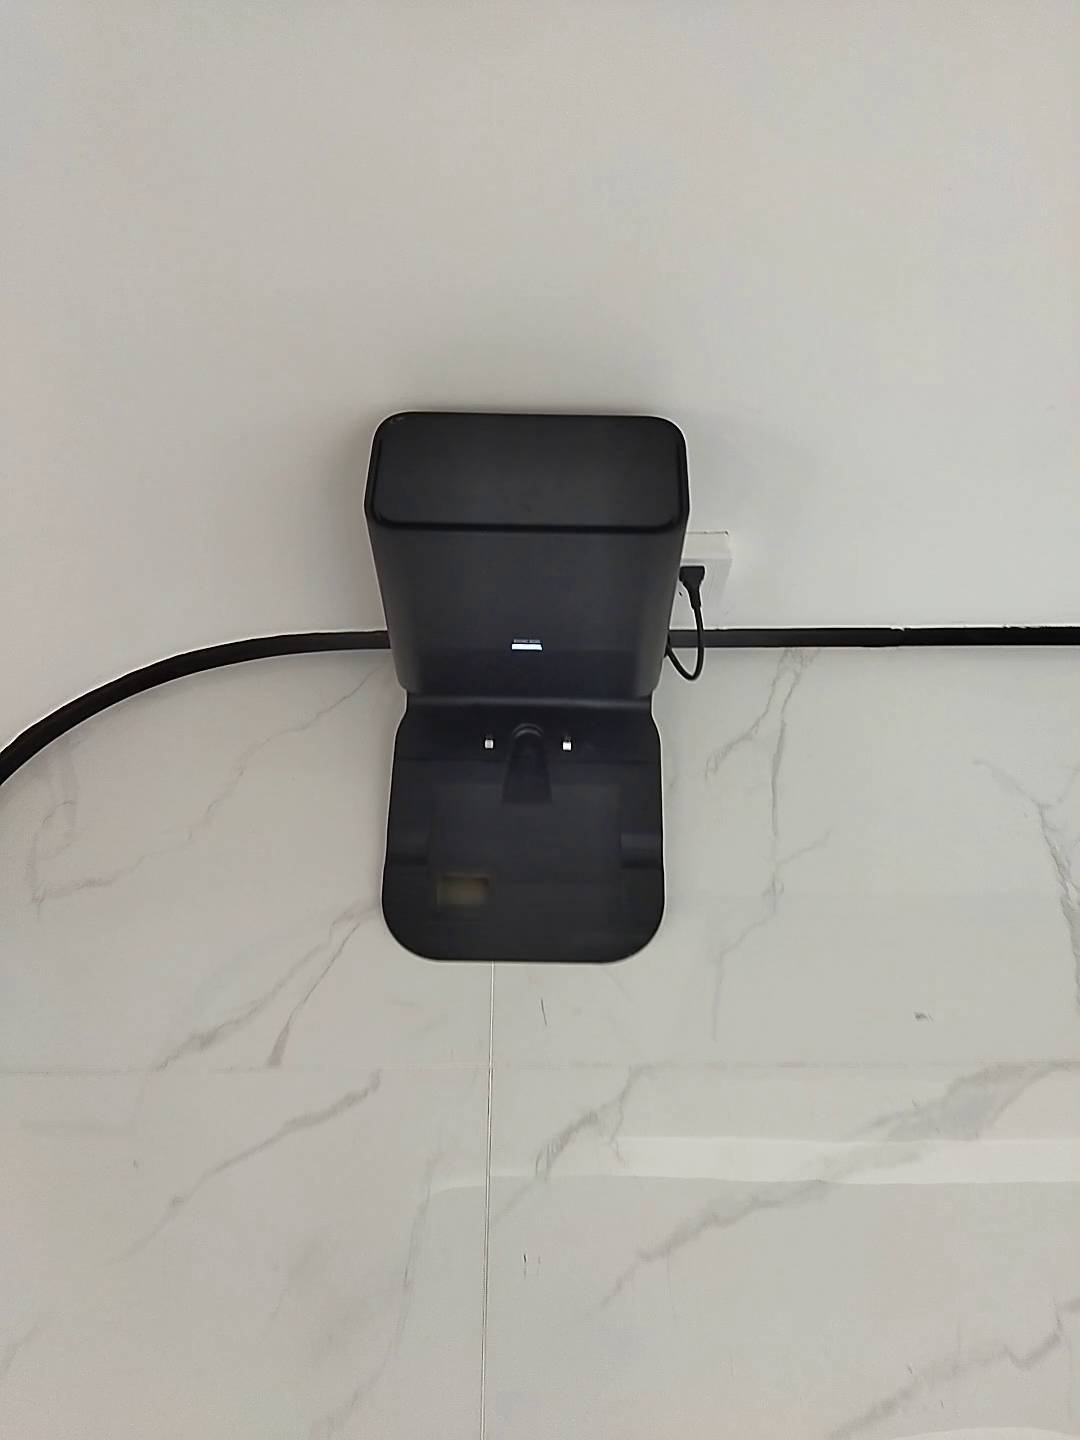dust collecting barrel: (365, 410, 690, 964)
